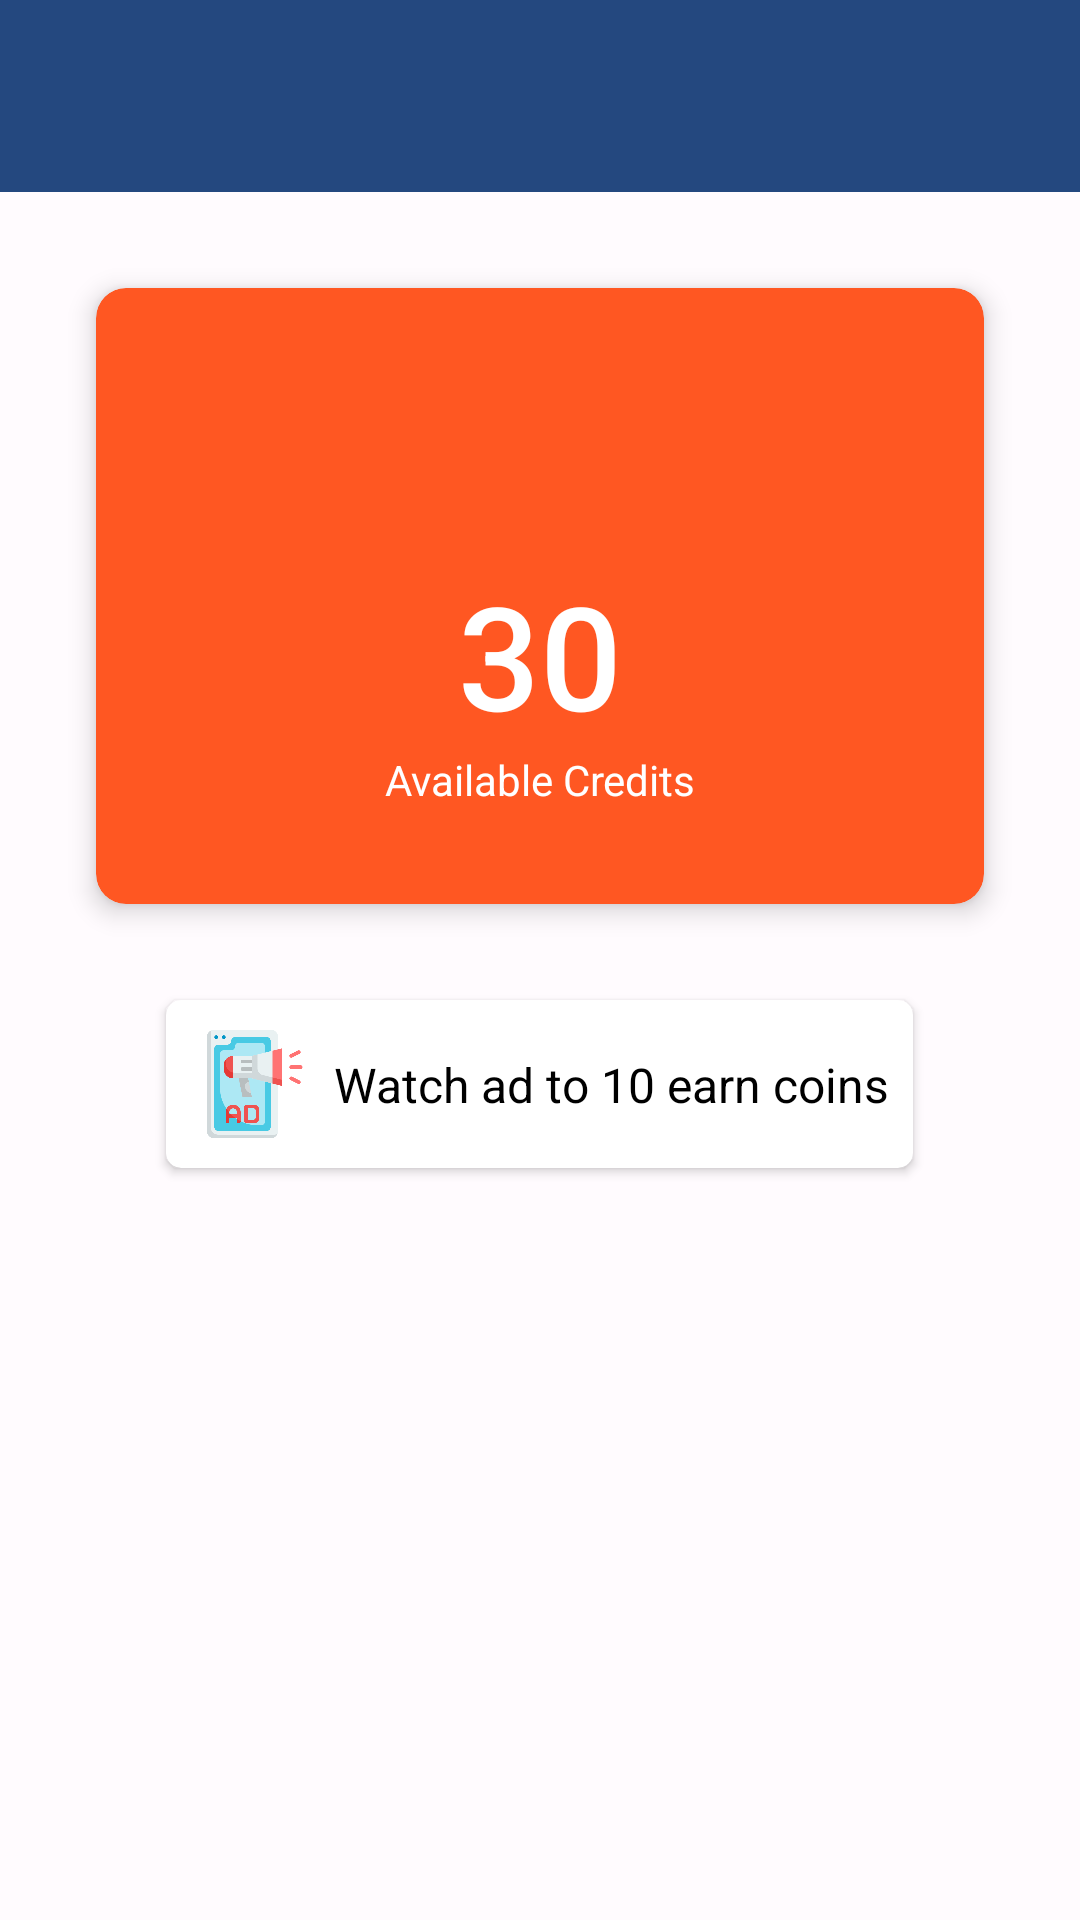

Icons on this 1080×1920 Android screen, each with the point to tap as (x=x, y=y):
ad phone: (x=255, y=1084)
